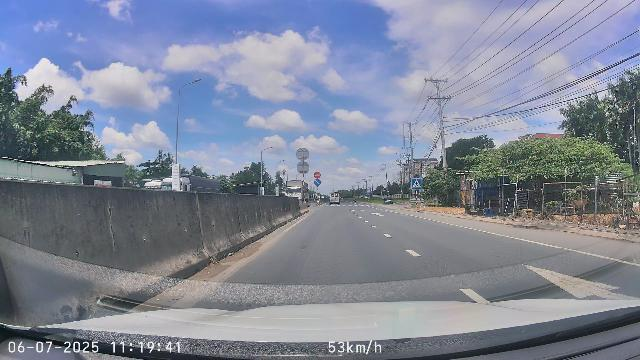102-cam-di-nguoc-chieu: (314, 171, 321, 178)
302a-huong-phai-di-vong-chuong-ngai-vat-1: (314, 179, 321, 186)
423a-duong-nguoi-di-bo-sang-ngang-1: (411, 178, 422, 190)
